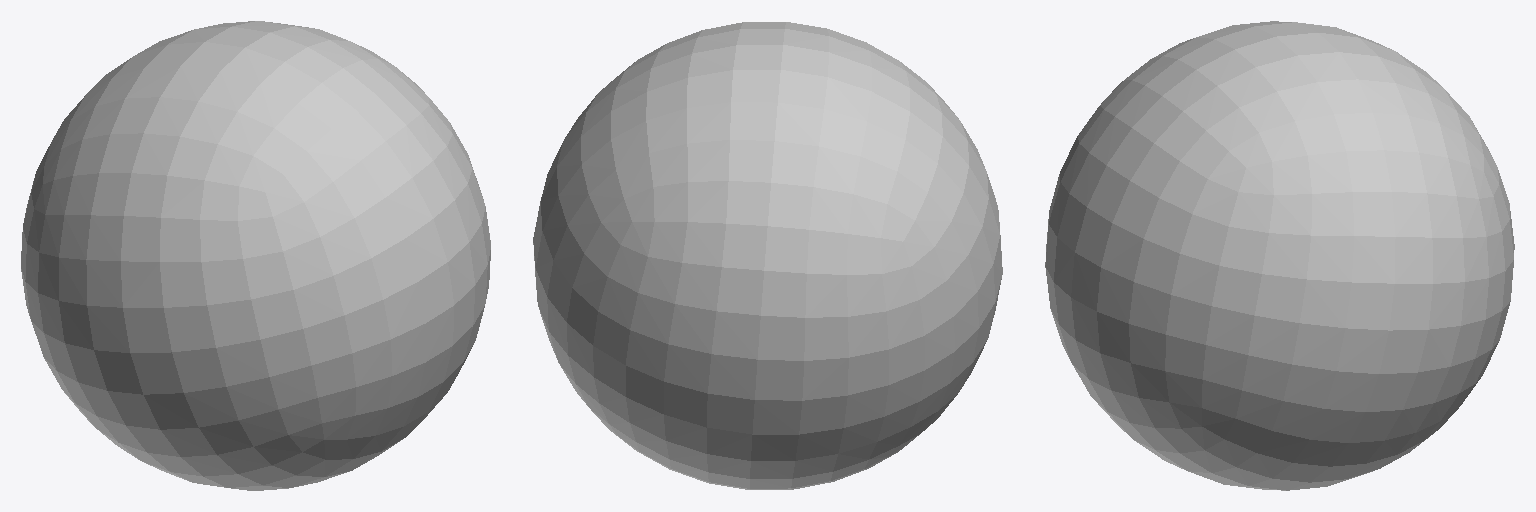
File: venus1.obj
The picture shows the model from 3 angles: view 1: azimuth 30°, elevation 25°; view 2: azimuth 150°, elevation 25°; view 3: azimuth 270°, elevation 25°; orthographic projection.
Parts seen in each view (by area): view 1: Atmosphere; view 2: Atmosphere; view 3: Atmosphere.
Boxes of the visible parts, x1=… form: Atmosphere: x1=21, y1=21, x2=490, y2=490; Atmosphere: x1=533, y1=22, x2=1002, y2=489; Atmosphere: x1=1045, y1=21, x2=1514, y2=490.
Size of the model in its own units: 1.23 by 1.23 by 1.22.